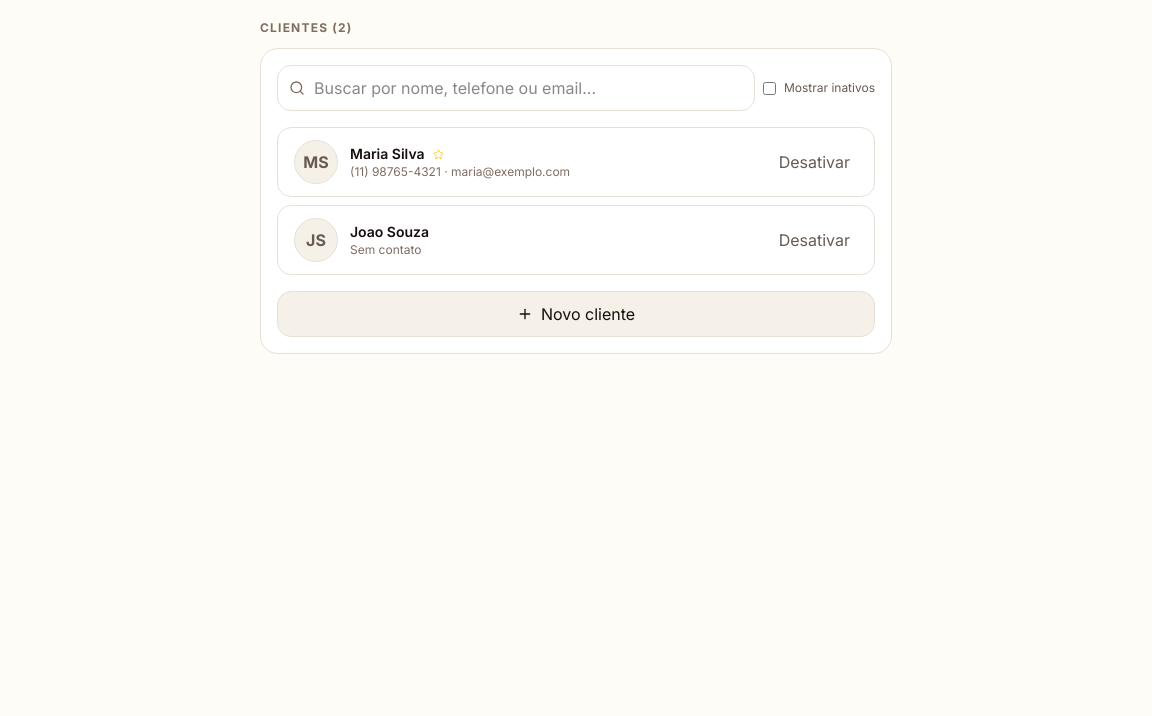
CustomersTab — lista e ficha do cliente › gráfico sem nenhuma compra: texto, nunca um eixo vazio
This screenshot has width=1152, height=716.
Click the button with aria-label "Ver ficha de Maria Silva" at {"x": 316, "y": 162}, box x1=277 y1=127 x2=875 y2=197
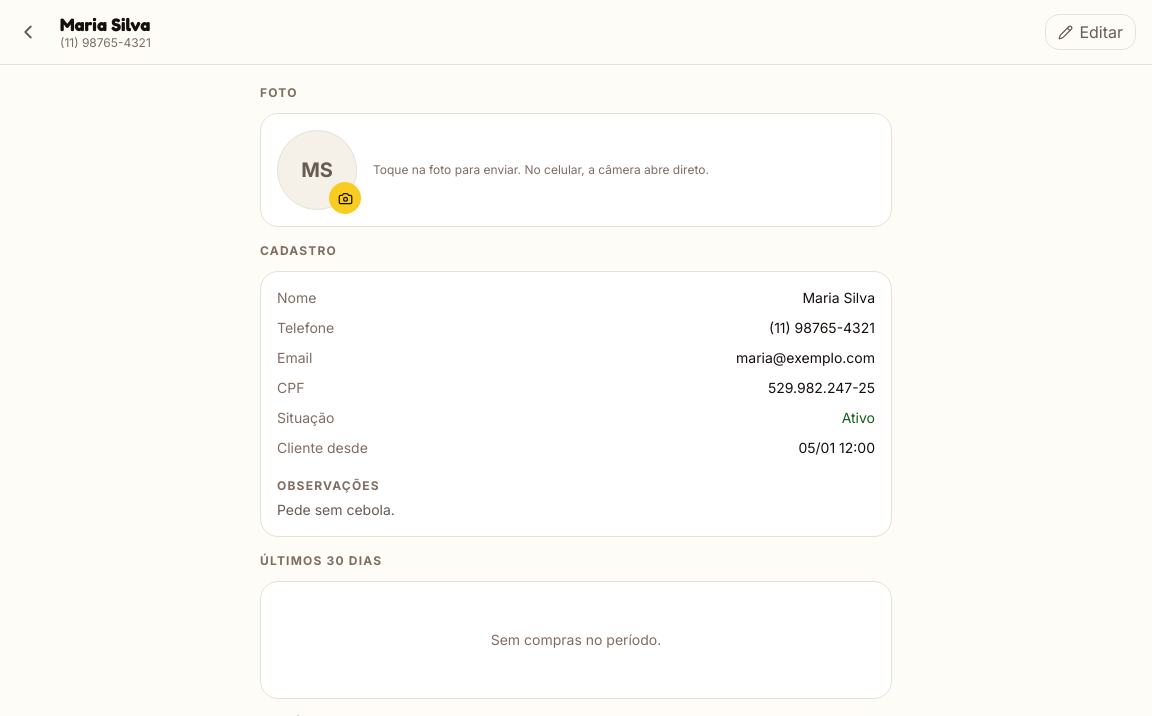
Check: the text "Sem compras no período." is shown, box x1=491 y1=631 x2=661 y2=648
